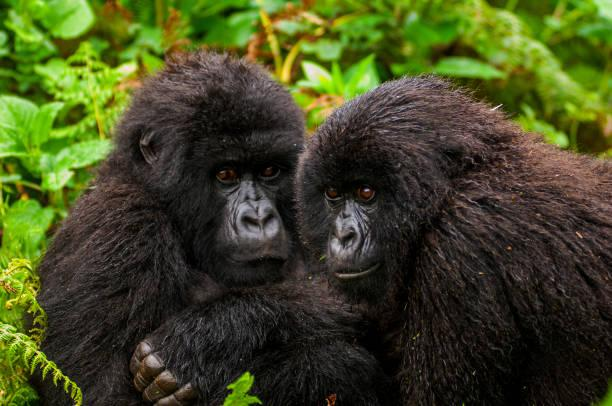goriile_montagne: (307, 30, 612, 401), (44, 9, 304, 393)
